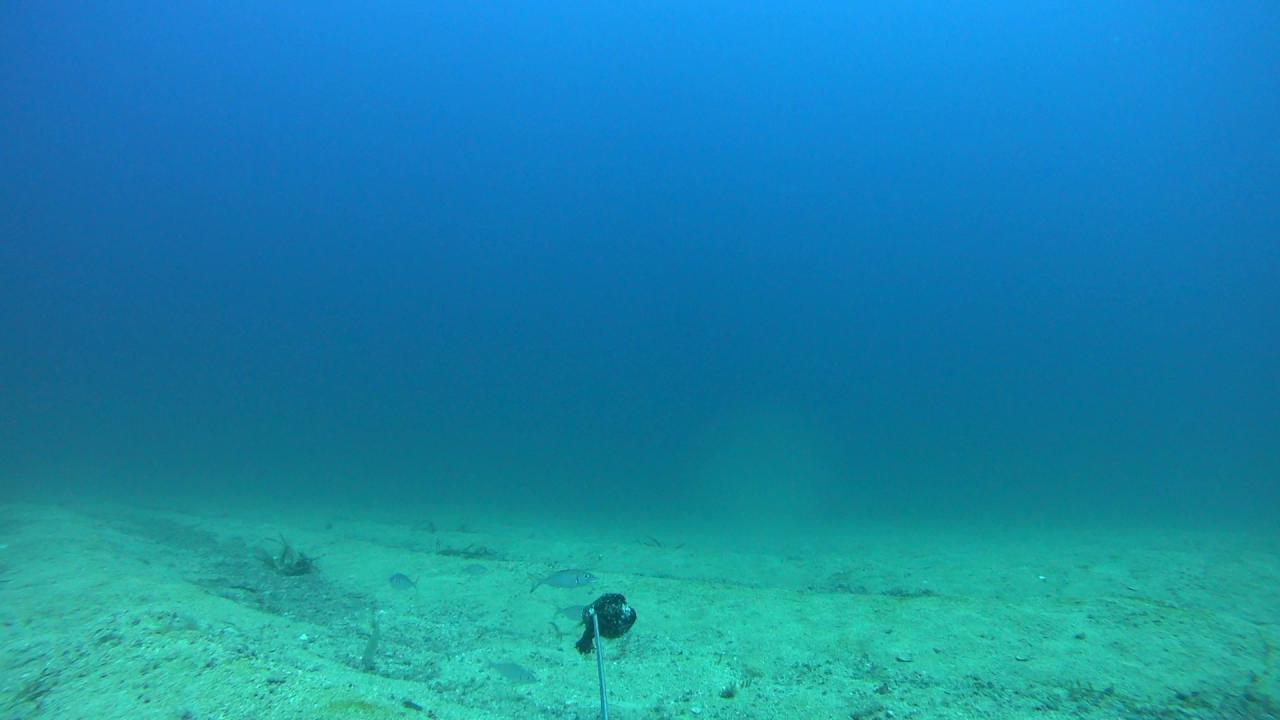pagellus: (525, 566, 595, 594), (486, 656, 534, 683), (386, 573, 421, 588)
